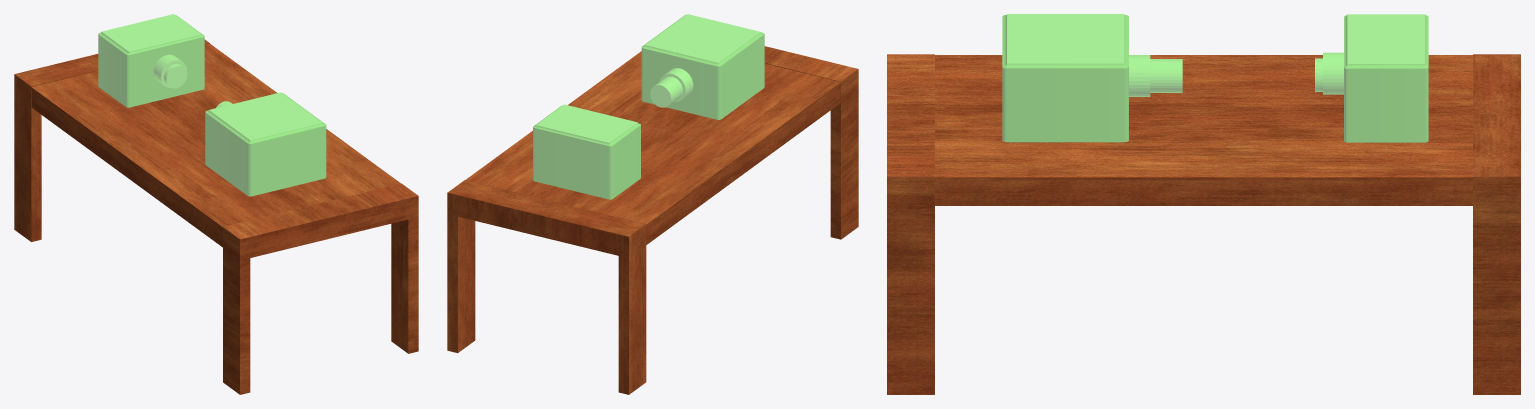
File: TorsionMaquina.gltf
3 views of the same model, side by side, from view 1: azimuth 30°, elevation 25°; view 2: azimuth 150°, elevation 25°; view 3: azimuth 270°, elevation 25° (orthographic). The views are drawn at different scales.
Visible parts, largest first — view 1: mesa_compresion, baseMaquina, baseMaquina.002, Cilindro.003, Cilindro.002; view 2: mesa_compresion, baseMaquina, baseMaquina.002, Cilindro.001, Cilindro; view 3: mesa_compresion, baseMaquina, baseMaquina.002, Cilindro.001, Cilindro, Cilindro.003.
Boxes of the visible parts, box(x1,y1,x2,y2) form: mesa_compresion: box(14, 39, 418, 394); baseMaquina: box(205, 92, 326, 196); baseMaquina.002: box(98, 14, 204, 107); Cilindro.003: box(153, 54, 186, 87); Cilindro.002: box(163, 64, 187, 88); mesa_compresion: box(447, 46, 858, 394); baseMaquina: box(641, 14, 764, 119); baseMaquina.002: box(533, 104, 640, 199); Cilindro.001: box(650, 76, 682, 107); Cilindro: box(659, 68, 693, 101); mesa_compresion: box(887, 54, 1520, 394); baseMaquina: box(1002, 14, 1128, 142); baseMaquina.002: box(1344, 14, 1428, 142); Cilindro.001: box(1150, 59, 1182, 92); Cilindro: box(1129, 55, 1150, 96); Cilindro.003: box(1323, 52, 1343, 94).
Bounding box in the file's own units: 1.37 × 1.54 × 3.
Materials: 8 (1 with a texture image).
